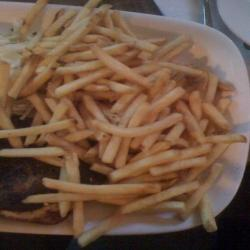fries: (48, 32, 235, 221)
